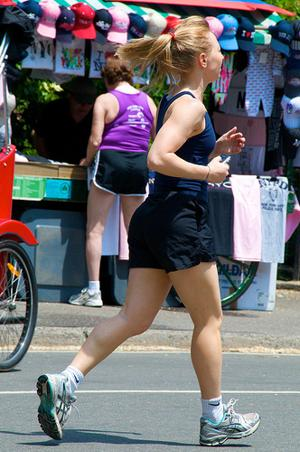person: (37, 14, 260, 449)
